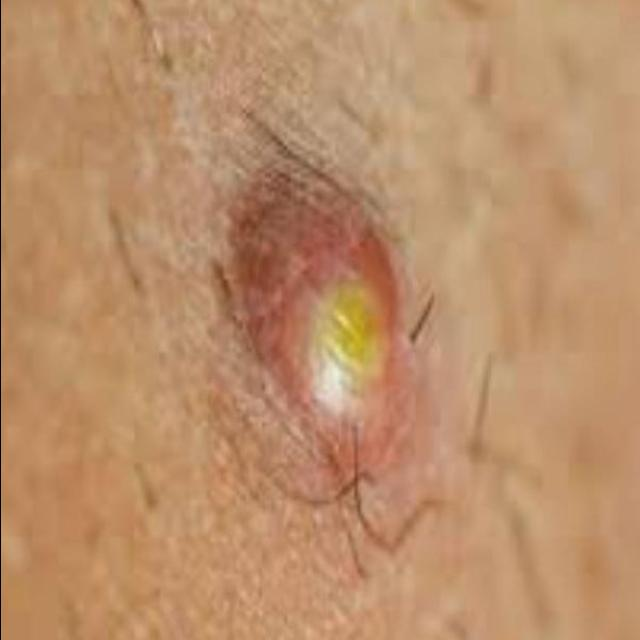pustule: (196, 156, 442, 540)
